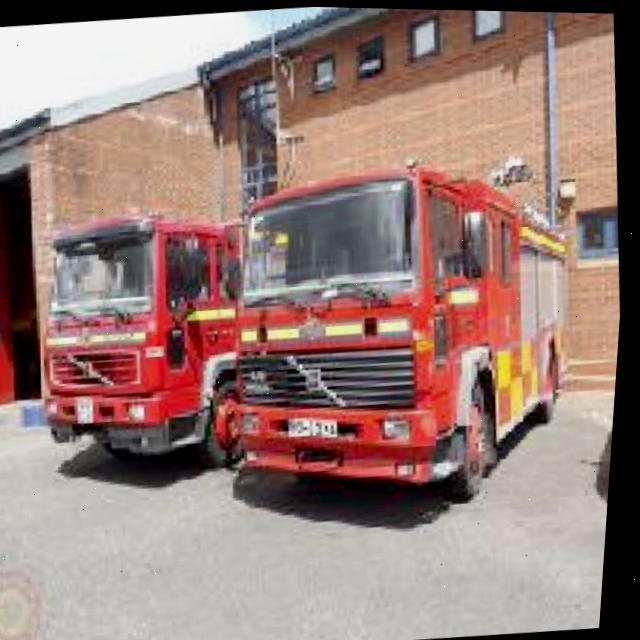emergency: (212, 143, 604, 522), (27, 198, 267, 473)
